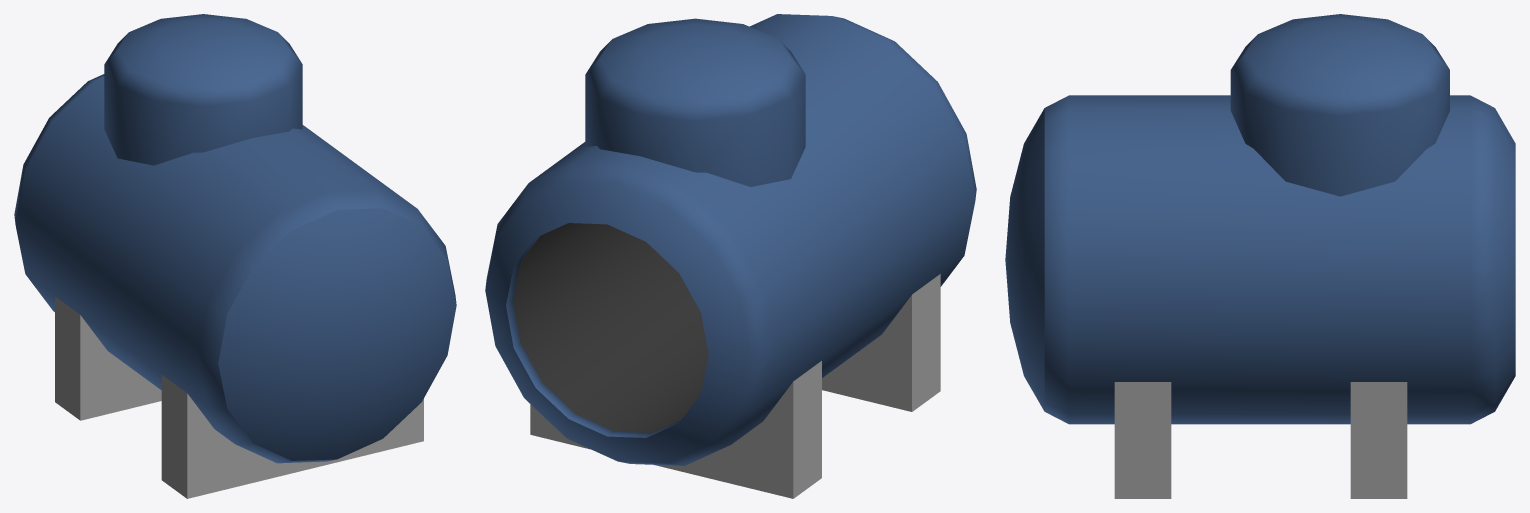
Rendered from BlueMetalMechMediumEnclosedBoiler1.fbx.
The picture shows the model from 3 angles, left to right: view 1: azimuth 30°, elevation 25°; view 2: azimuth 150°, elevation 25°; view 3: azimuth 270°, elevation 25°; orthographic projection. The views are drawn at different scales.
Visible parts, largest first — view 1: BlueMetalMechMediumEnclosedBoiler1; view 2: BlueMetalMechMediumEnclosedBoiler1; view 3: BlueMetalMechMediumEnclosedBoiler1.
Part boxes in pixels (x1,y1,x2,y2): BlueMetalMechMediumEnclosedBoiler1: (14,14,456,498); BlueMetalMechMediumEnclosedBoiler1: (485,14,976,498); BlueMetalMechMediumEnclosedBoiler1: (1005,14,1515,498).
Bounding box in the file's own units: 300 × 399 × 465.
